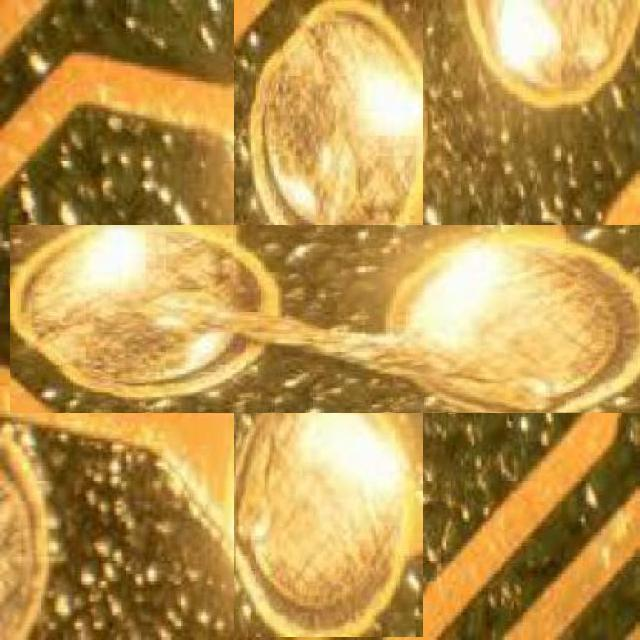Short_circuit: (122, 112, 535, 525)
